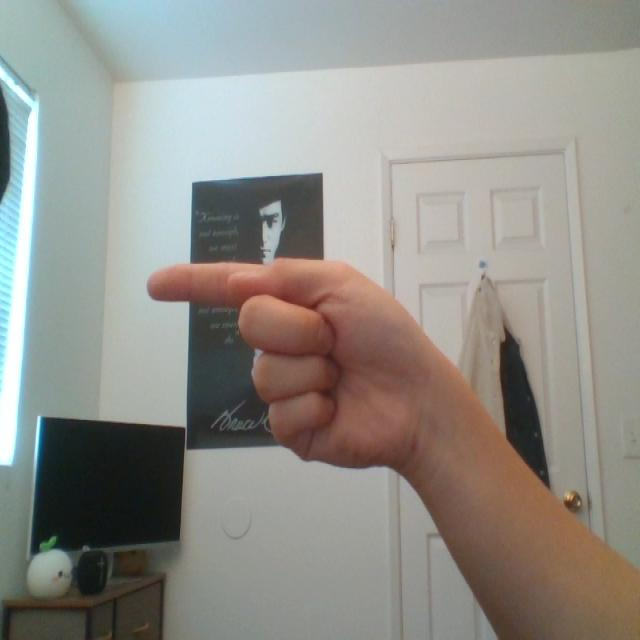G: (120, 191, 517, 510)
